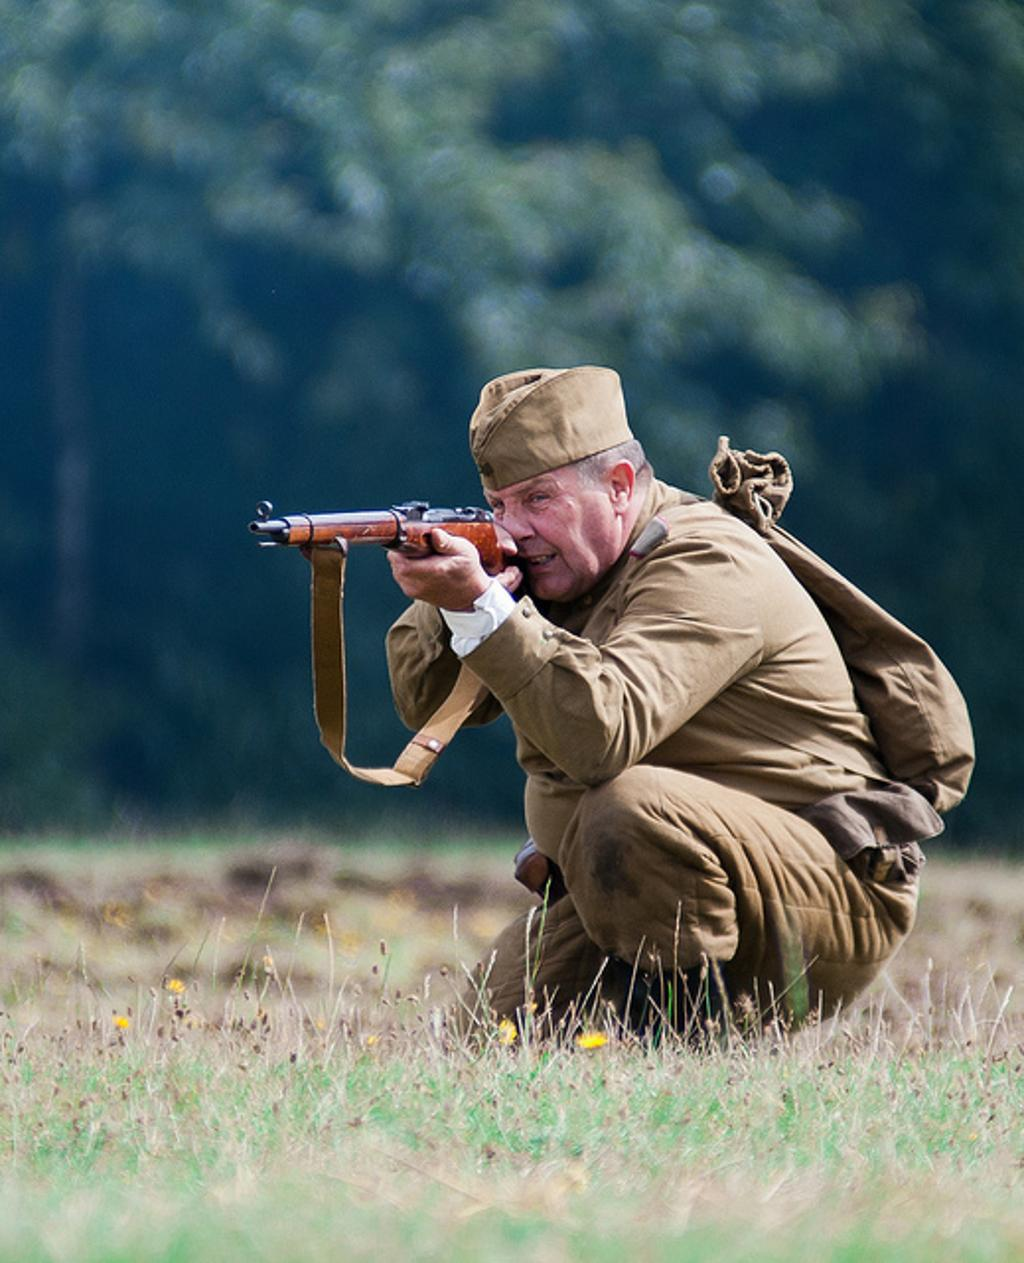face: (482, 450, 625, 603)
